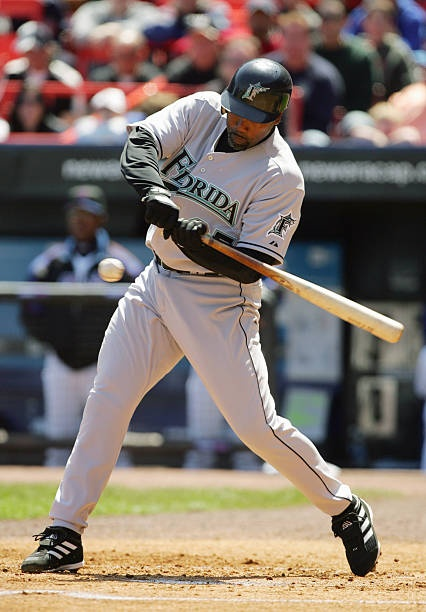bita: (194, 233, 399, 335)
